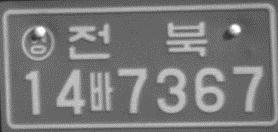1: (18, 68, 49, 116)
3: (155, 66, 187, 114)
4: (54, 67, 86, 115)
6: (193, 66, 225, 113)
7: (232, 65, 263, 112), (117, 67, 147, 114)
바: (88, 70, 114, 111)
영: (20, 24, 55, 62)
전북_D: (67, 22, 208, 61)
